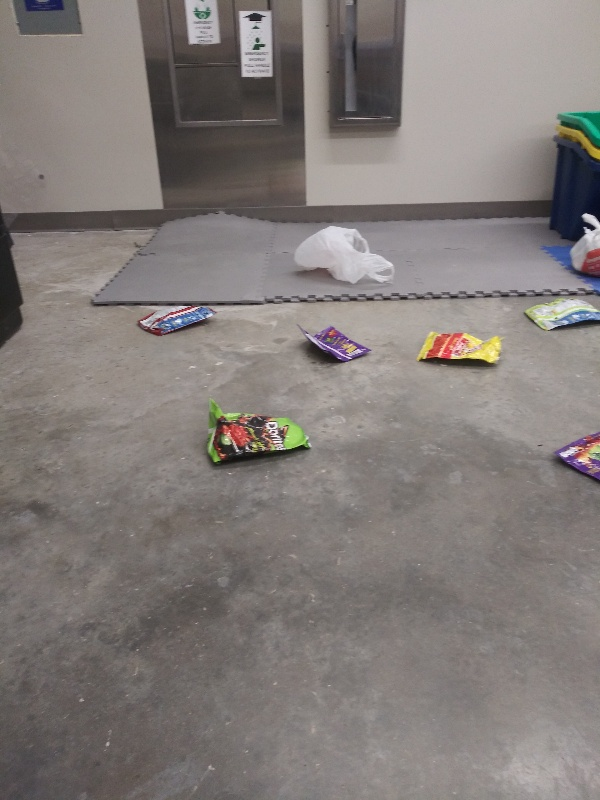bag: (201, 392, 318, 469), (293, 316, 378, 369), (411, 325, 506, 372), (131, 298, 222, 335), (517, 294, 600, 332), (547, 430, 600, 486)
